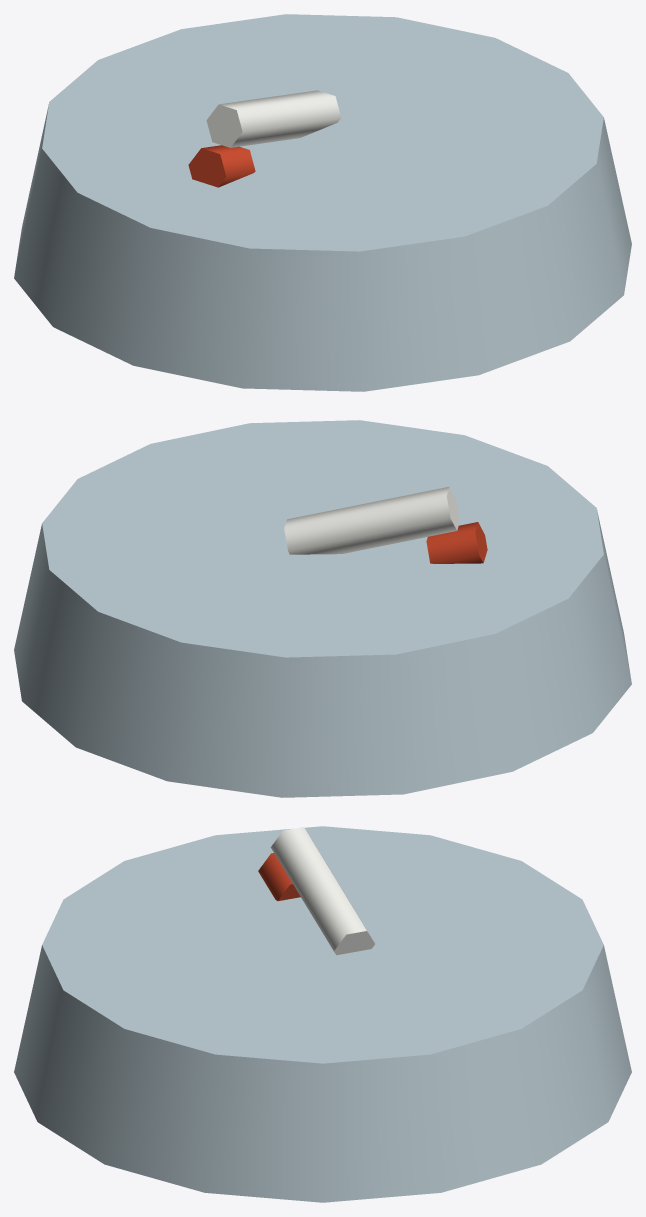
The model's file is cinzeiro.obj.
3 views of the same model, one above another, from view 1: azimuth 30°, elevation 25°; view 2: azimuth 150°, elevation 25°; view 3: azimuth 270°, elevation 25° (orthographic).
Visible parts, largest first — view 1: cinzeiro; view 2: cinzeiro; view 3: cinzeiro.
Part boxes in pixels (box(x1,y1,x2,y2)): cinzeiro: box(14, 14, 631, 391); cinzeiro: box(14, 420, 631, 797); cinzeiro: box(14, 826, 631, 1202).
Size of the model in its own units: 0.11 by 0.0373 by 0.11.
